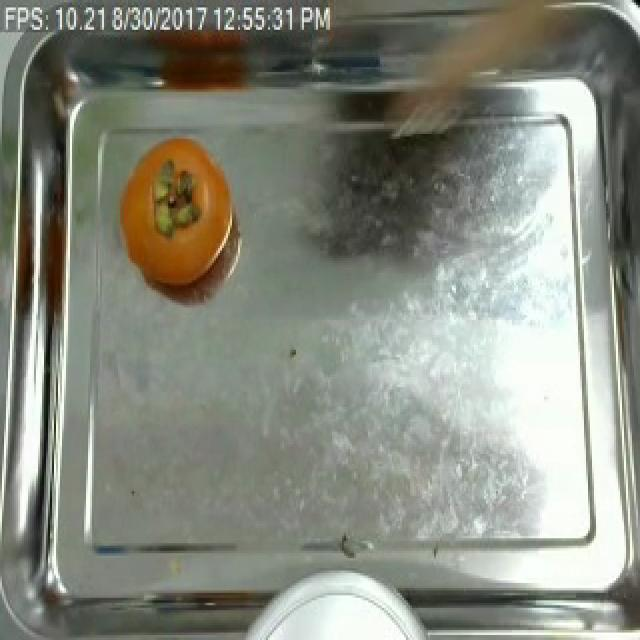Fruit: (112, 126, 240, 288)
